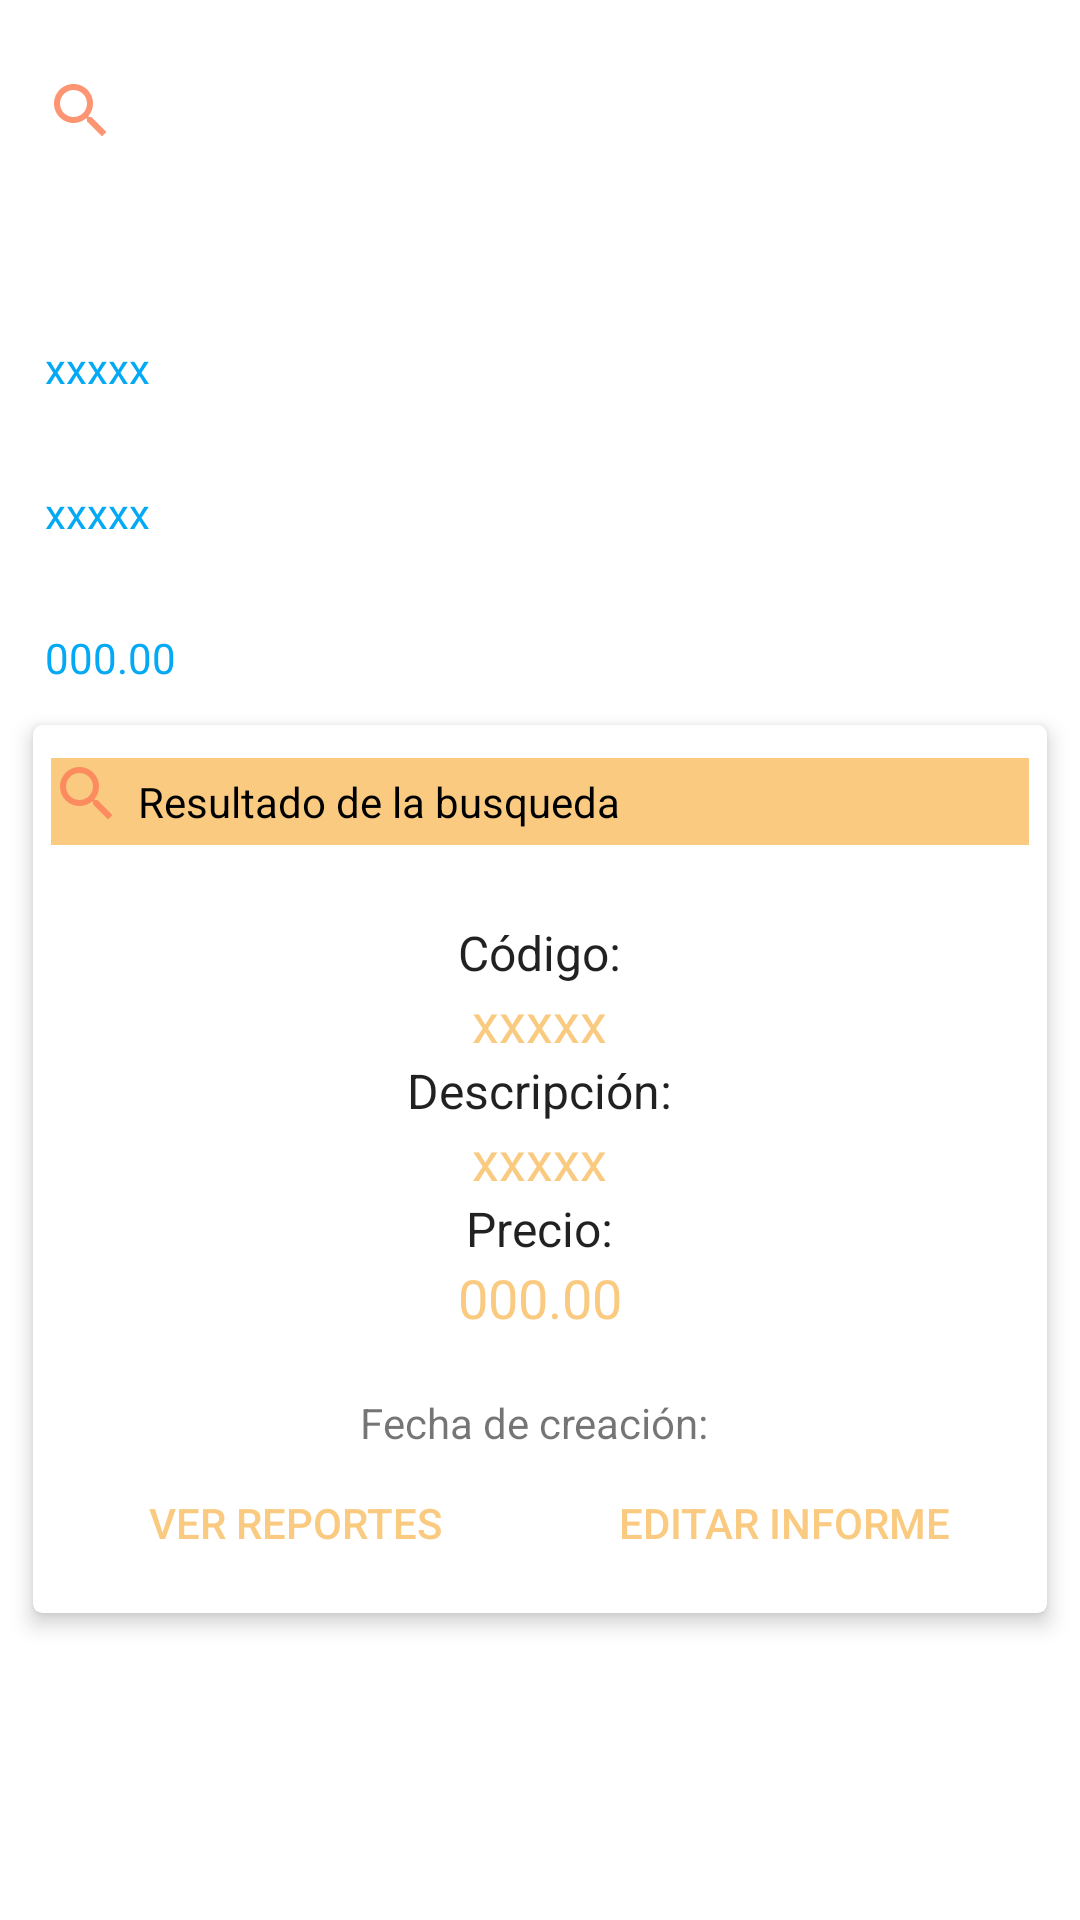

Where to tap for icons on this 1080×1920 app screen, as (x=x, y=y):
search: (x=80, y=110), (x=86, y=793)
